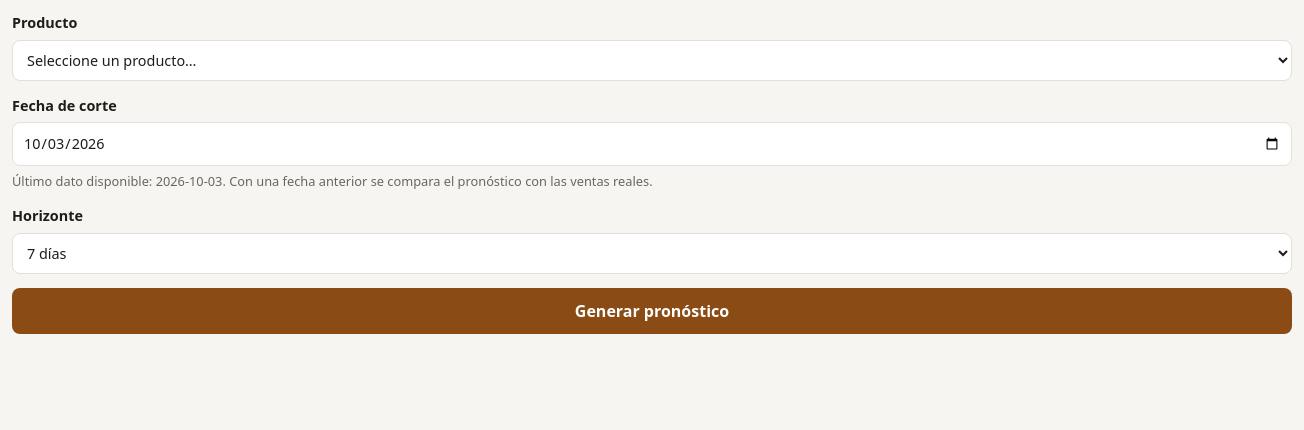
ForecastForm › rejects a cutoff date without enough history
Select "Galletas de mantequilla" in the dropdown labelled "Producto" at (652, 60), box [12,40,1292,81]
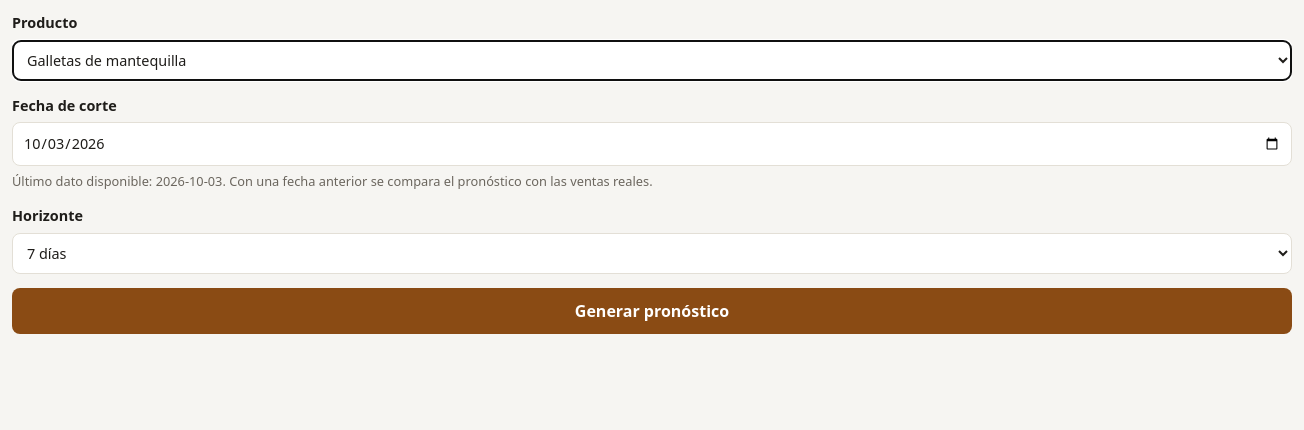
Type "2021-10-05" into the date field labelled "Fecha de corte" at (652, 144), box [12,122,1292,166]
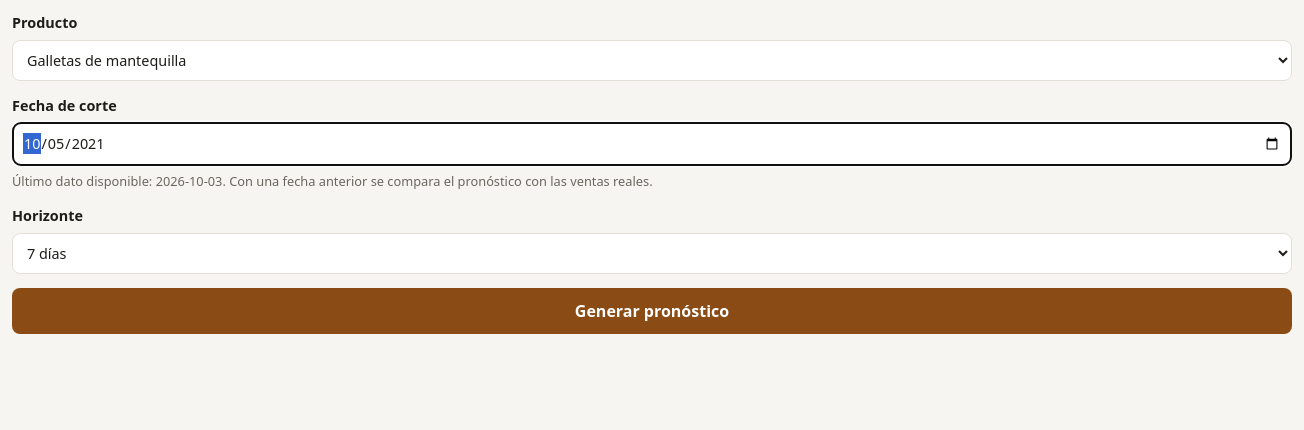
Click the button "Generar pronóstico" at (652, 311), box [12,288,1292,334]
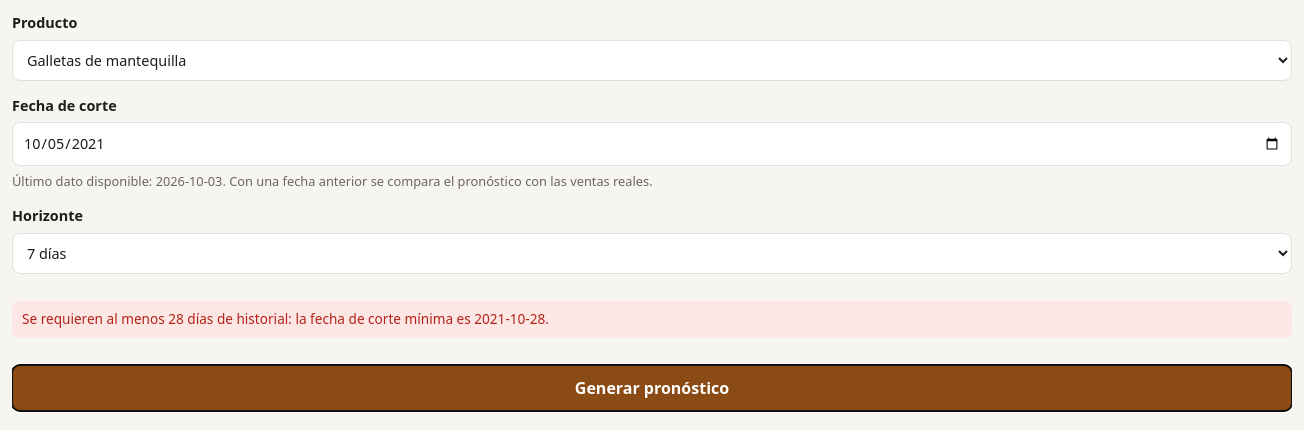
Expected: the message shows "al menos 28 días", [22,309,549,328]
